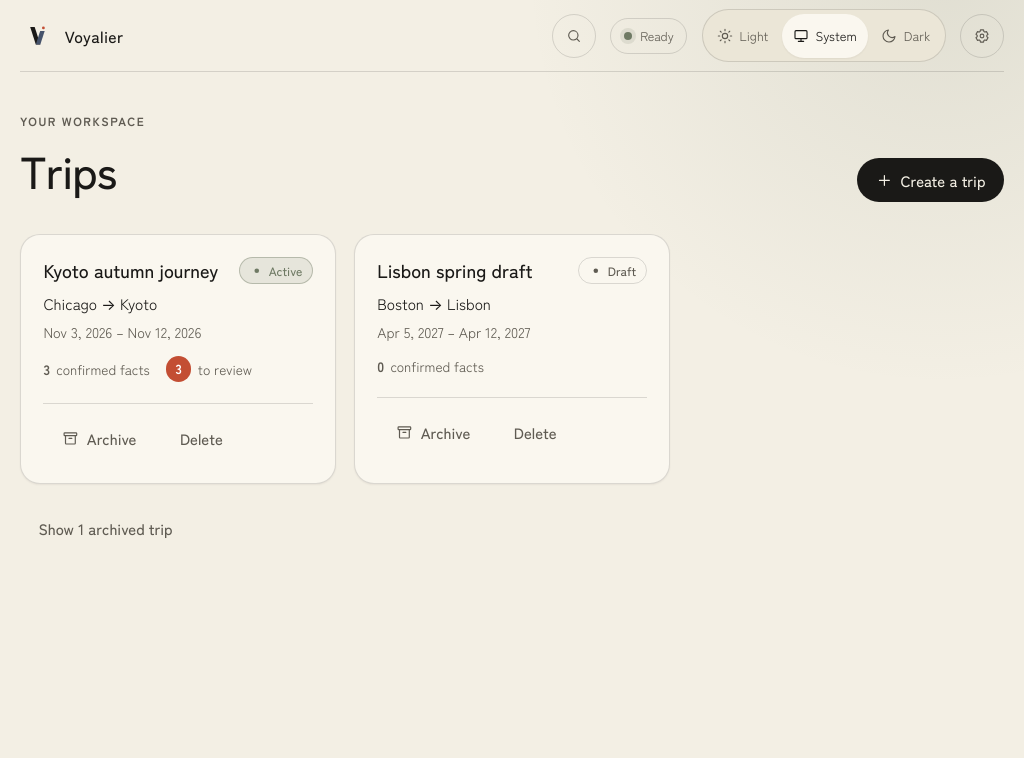
it: readiness › summarizes the seeded Kyoto plan as worth a look
Click the button with aria-label "Open Kyoto autumn journey": (131, 270) [43,257,218,283]
(page scrolled)
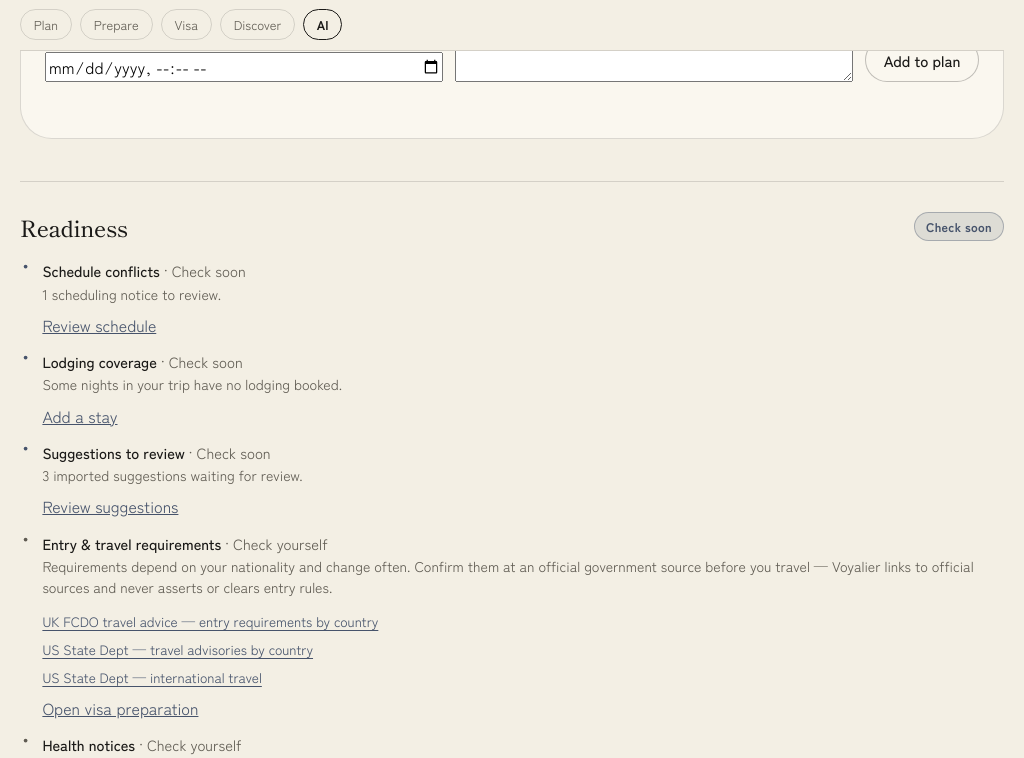
Check: the text "Check soon" is shown, box [914,212,1004,241]
Check: the text "Some nights in your trip have no lodging booked." is shown, box [42,374,342,396]
